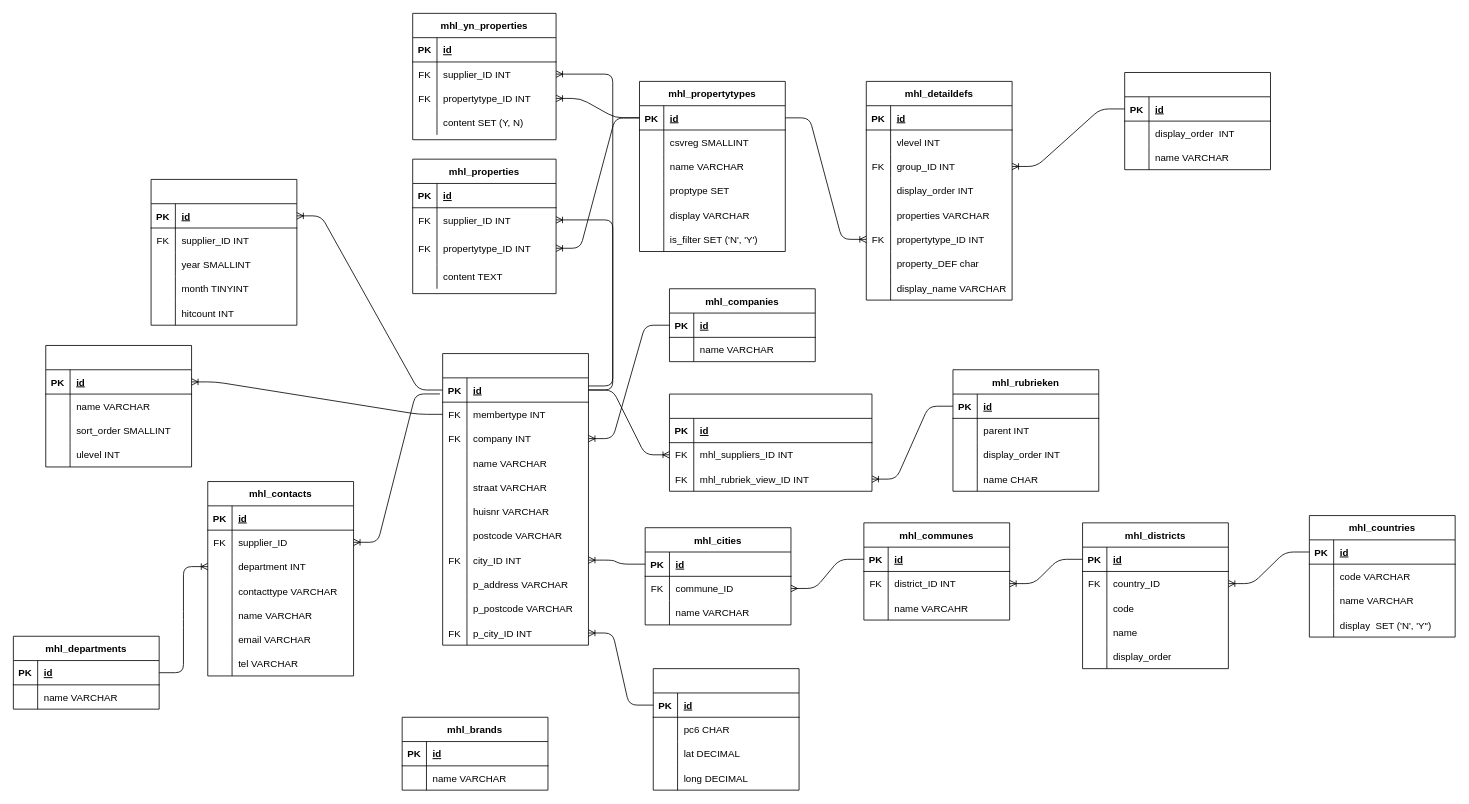
This 1469x804 diagram has some shape labels left out. Here are the shapes that lost their labels. From the top down, the box of each, then its label:
(1124, 72, 1270, 170): mhl_detailgroups
(150, 179, 297, 325): mhl_hitcount
(45, 345, 192, 467): mhl_membertypes
(669, 393, 872, 491): mhl_suppliers_mhl_rubriek_view
(442, 353, 588, 645): mhl_suppliers
(652, 668, 799, 790): pc_lat_long
